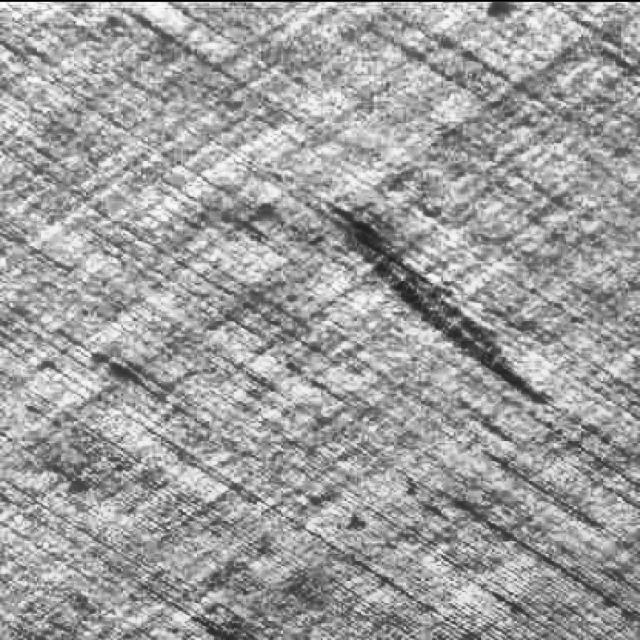oil_spot: (313, 185, 566, 416)
